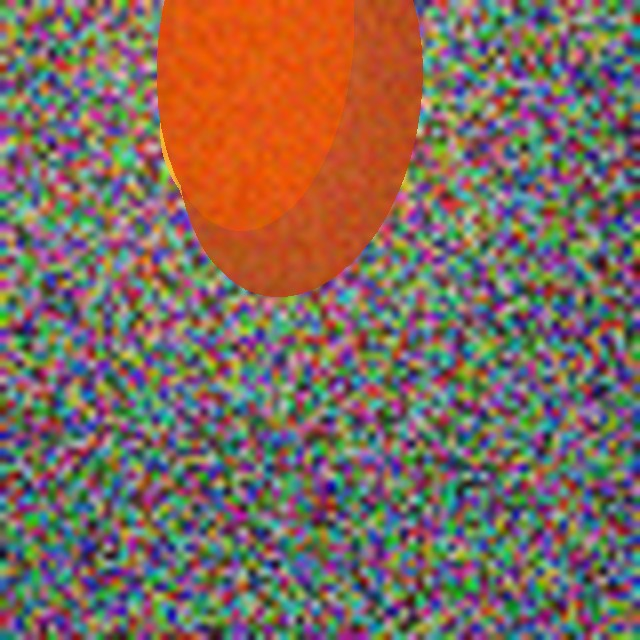fire: (181, 17, 355, 279)
